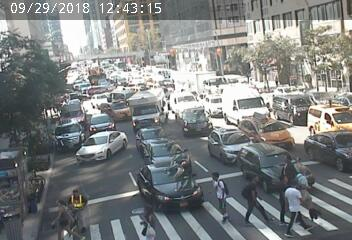car: (147, 163, 202, 207), (248, 146, 287, 180), (230, 91, 269, 120), (311, 130, 352, 157), (251, 116, 290, 143), (137, 95, 170, 126), (309, 110, 352, 133), (278, 97, 317, 121), (87, 138, 120, 160), (212, 135, 241, 160), (145, 143, 185, 161), (62, 100, 91, 121), (181, 112, 209, 133), (130, 130, 166, 145), (57, 122, 82, 143), (101, 100, 126, 121), (91, 117, 118, 134), (202, 97, 226, 116), (176, 94, 200, 109), (98, 80, 112, 88), (74, 83, 90, 90)
